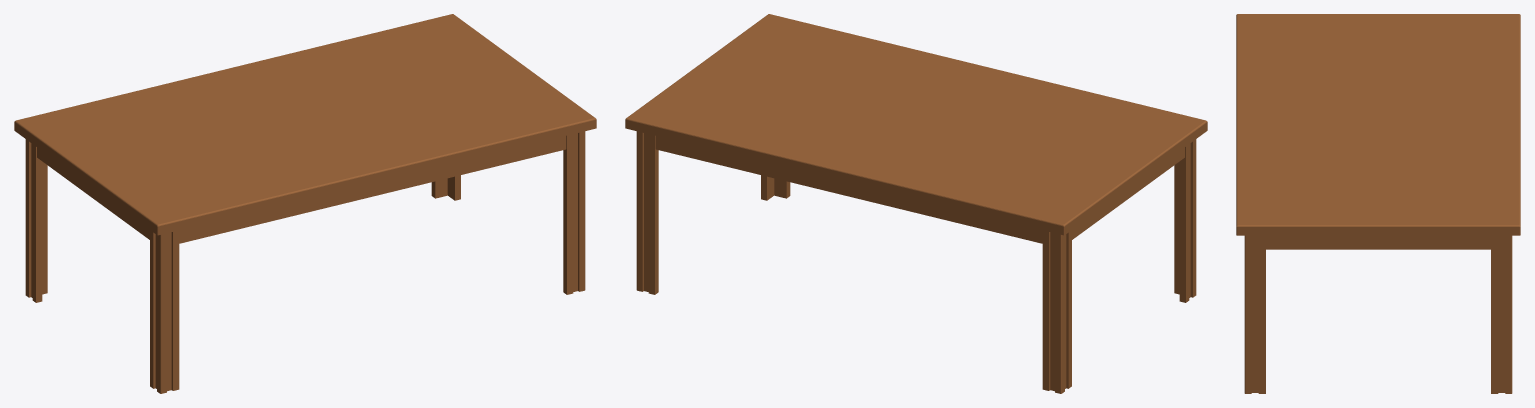
File: scene_ee5PsKIJab.glb
3 renders of one model, left to right at view 1: azimuth 30°, elevation 25°; view 2: azimuth 150°, elevation 25°; view 3: azimuth 270°, elevation 25°, orthographic.
Visible parts, largest first — view 1: Node; view 2: Node; view 3: Node.
Boxes of the visible parts, bbox=[...] form: Node: bbox=[14, 14, 596, 393]; Node: bbox=[625, 14, 1207, 393]; Node: bbox=[1236, 14, 1520, 393].
Size of the model in its own units: 53 by 20 by 30.
